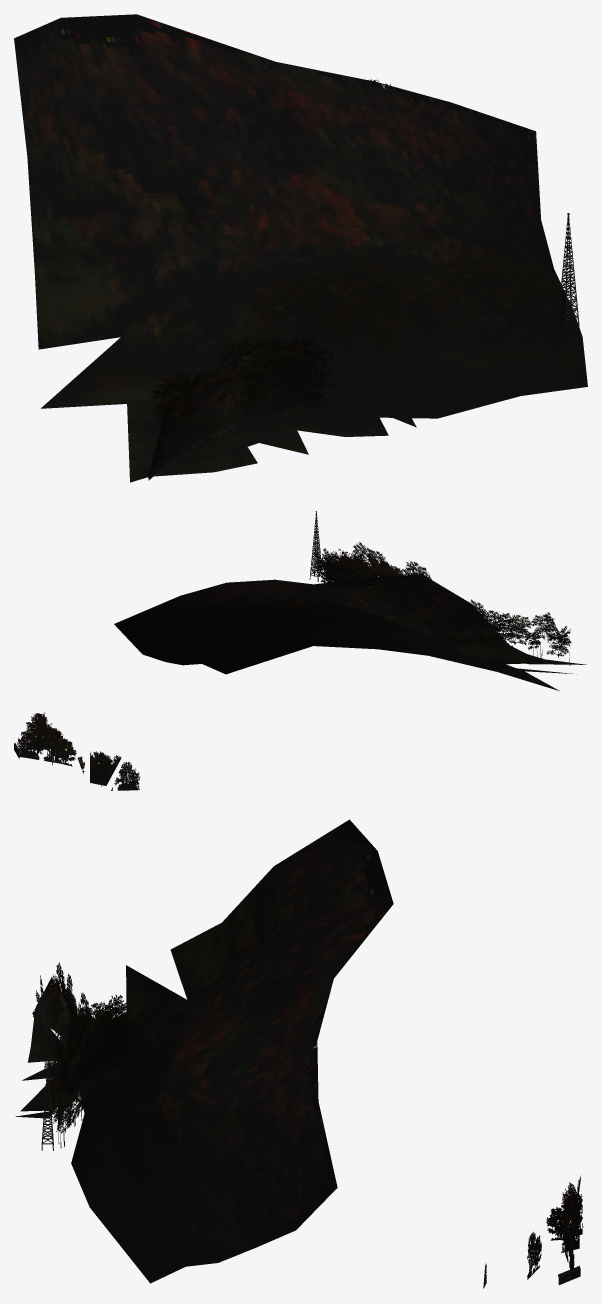
Rendered from cell_5_-8.gltf.
3 views of the same model, one above another, from view 1: azimuth 30°, elevation 25°; view 2: azimuth 150°, elevation 25°; view 3: azimuth 270°, elevation 25° (orthographic). The views are drawn at different scales.
Visible parts, largest first — view 1: cell_5_-8; view 2: cell_5_-8; view 3: cell_5_-8.
Boxes of the visible parts, x1,y1,x2,y2 form: cell_5_-8: (14, 14, 587, 482); cell_5_-8: (14, 511, 586, 790); cell_5_-8: (15, 819, 583, 1288).
Size of the model in its own units: 288 by 152 by 273.
Materials: 11 (11 with a texture image).
